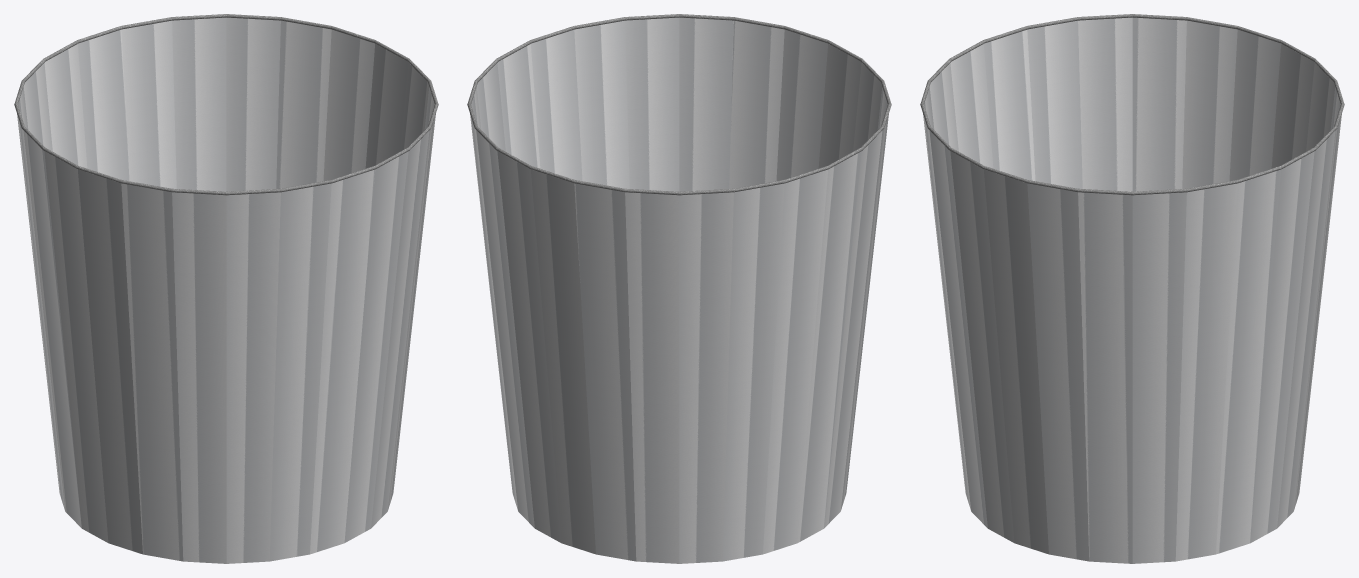
3 views of the same model, side by side, from view 1: azimuth 30°, elevation 25°; view 2: azimuth 150°, elevation 25°; view 3: azimuth 270°, elevation 25° (orthographic).
Visible parts, largest first — view 1: mesh1_mesh1-geometry; view 2: mesh1_mesh1-geometry; view 3: mesh1_mesh1-geometry.
Boxes of the visible parts, <box> form: mesh1_mesh1-geometry: <box>14,14,438,563</box>; mesh1_mesh1-geometry: <box>467,14,891,563</box>; mesh1_mesh1-geometry: <box>920,14,1344,563</box>.
Bounding box in the file's own units: 0.5744 × 0.5832 × 0.5744.
